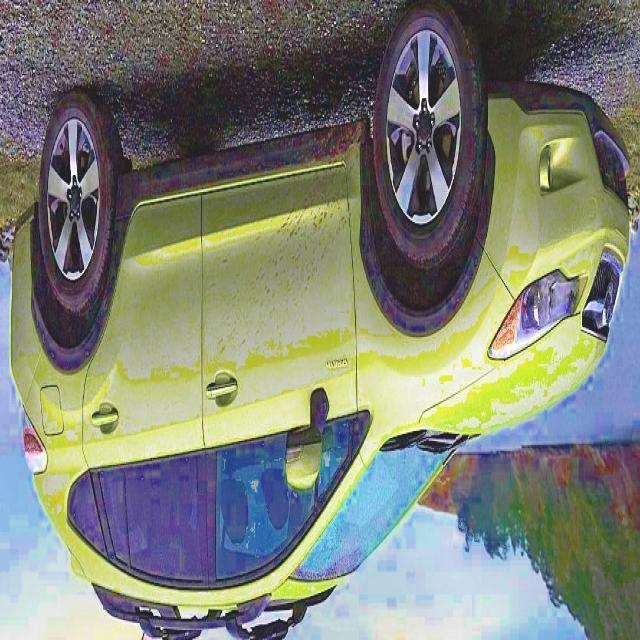green: (10, 9, 629, 640)
